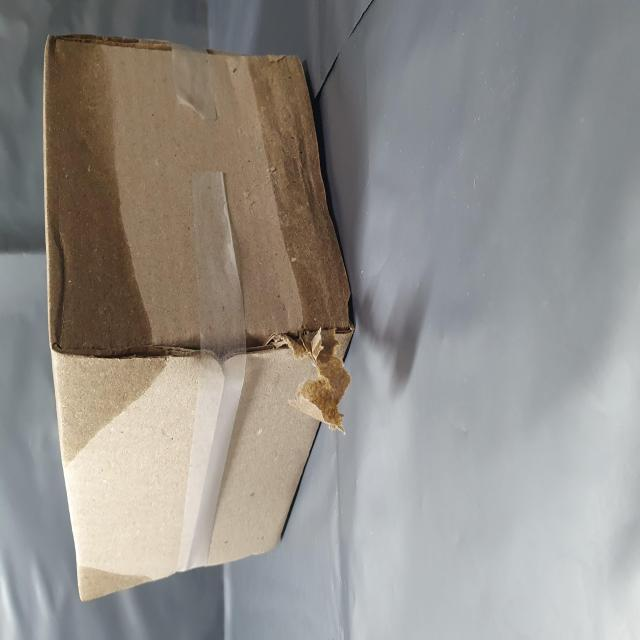wet: (85, 82, 337, 285), (156, 432, 334, 624)
